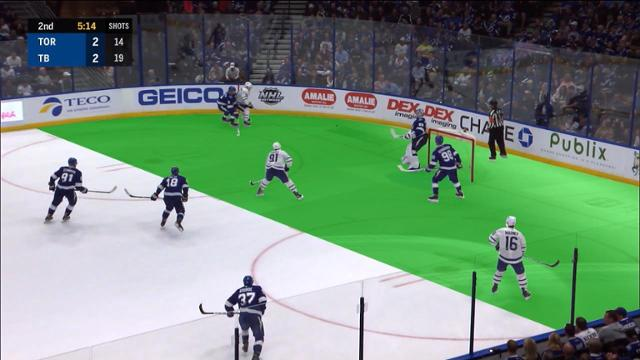geico: (136, 87, 225, 105)
